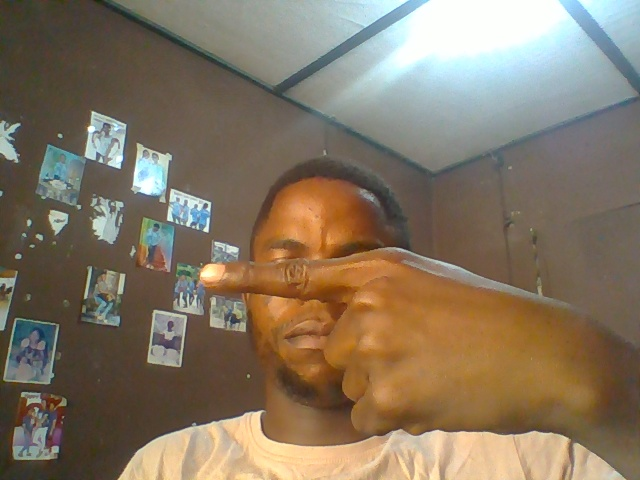Right: (197, 245, 592, 445)
